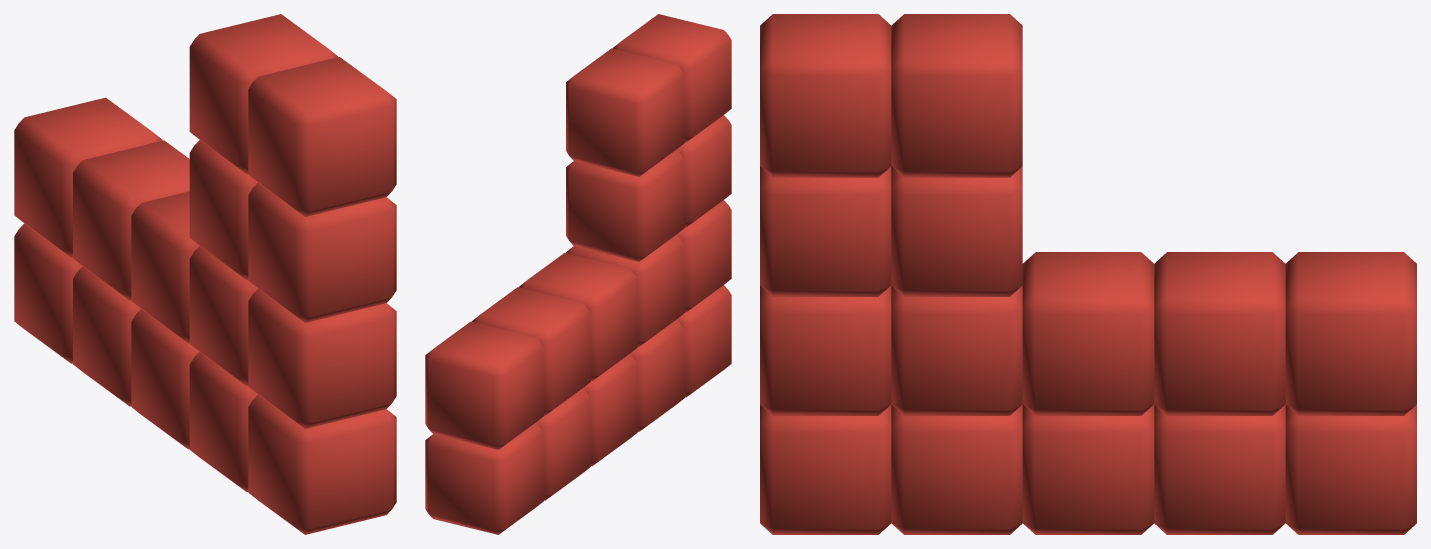
File: obstacle-005.fbx
3 views of the same model, side by side, from view 1: azimuth 30°, elevation 25°; view 2: azimuth 150°, elevation 25°; view 3: azimuth 270°, elevation 25° (orthographic). The views are drawn at different scales.
Visible parts, largest first — view 1: obstacle-005; view 2: obstacle-005; view 3: obstacle-005.
Part boxes in pixels (x1,y1,x2,y2): obstacle-005: (14, 14, 396, 534); obstacle-005: (425, 14, 731, 534); obstacle-005: (760, 14, 1416, 534).
Size of the model in its own units: 200 by 800 by 1000.
